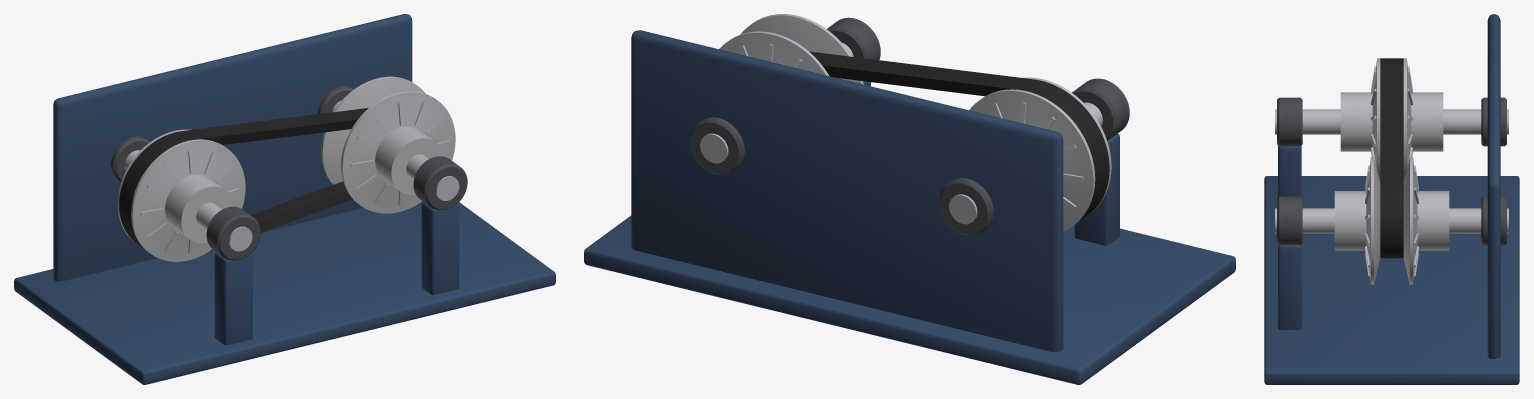
File: belt-cvt-variable-sheave-pulleys-high-ratio-181bc8e8.glb
The picture shows the model from 3 angles, left to right: view 1: azimuth 30°, elevation 25°; view 2: azimuth 150°, elevation 25°; view 3: azimuth 270°, elevation 25°; orthographic projection. The views are drawn at different scales.
Visible parts, largest first — view 1: Base, back plate and pedestals, Drive and driven variable sheaves, shafts, V-belt, Bearing housings; view 2: Base, back plate and pedestals, Drive and driven variable sheaves, shafts, V-belt, Bearing housings; view 3: Base, back plate and pedestals, Drive and driven variable sheaves, shafts, V-belt, Bearing housings.
Part boxes in pixels (x1,y1,x2,y2): Base, back plate and pedestals: (14,14,555,384); Drive and driven variable sheaves, shafts: (117,76,459,261); V-belt: (119,108,368,251); Bearing housings: (111,86,467,260); Base, back plate and pedestals: (584,30,1235,384); Drive and driven variable sheaves, shafts: (700,14,1111,231); V-belt: (809,51,1109,223); Bearing housings: (690,17,1129,235); Base, back plate and pedestals: (1264,14,1519,384); Drive and driven variable sheaves, shafts: (1275,58,1508,284); V-belt: (1380,58,1403,258); Bearing housings: (1277,97,1506,245).
Size of the model in its own units: 0.44 by 0.197 by 0.24.
4 materials, 4 textured.
